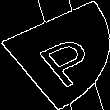P_NW: (16, 23, 94, 87)
